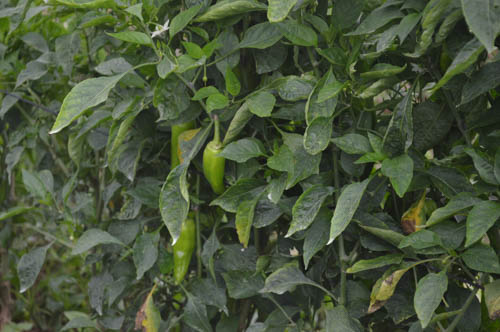ChiliPepper: (172, 219, 195, 285), (168, 119, 195, 174), (200, 143, 226, 198)
